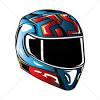helmet: (12, 7, 86, 91)
